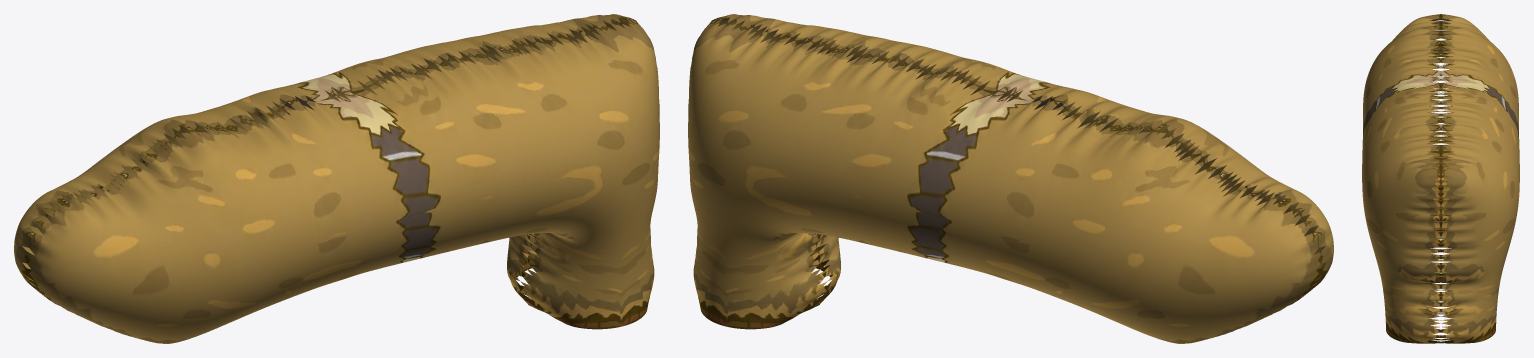
File: straw_terrace.glb
3 renders of one model, left to right at view 1: azimuth 30°, elevation 25°; view 2: azimuth 150°, elevation 25°; view 3: azimuth 270°, elevation 25°, orthographic. The views are drawn at different scales.
Visible parts, largest first — view 1: straw_terrace; view 2: straw_terrace; view 3: straw_terrace.
Part boxes in pixels (x1,y1,x2,y2): straw_terrace: (14, 14, 659, 343); straw_terrace: (688, 14, 1333, 343); straw_terrace: (1362, 14, 1519, 343).
Size of the model in its own units: 0.9846 by 0.412 by 0.3276.
Materials: 1 (1 with a texture image).
